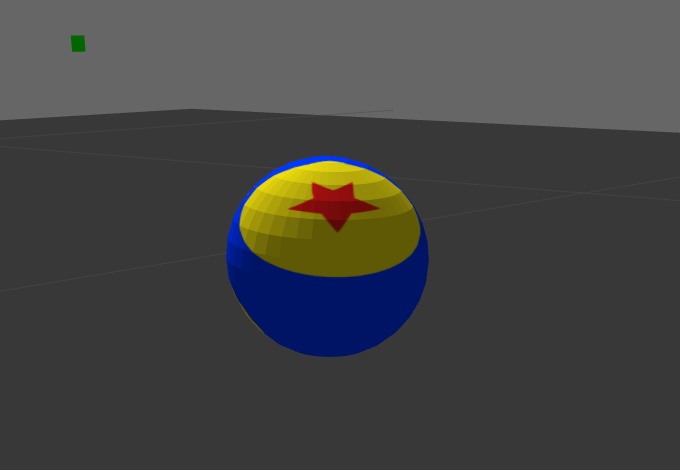toy story ball: (226, 154, 431, 359)
